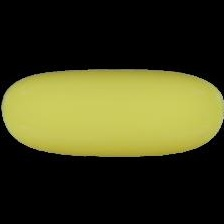55289-012: (0, 0, 224, 224)
